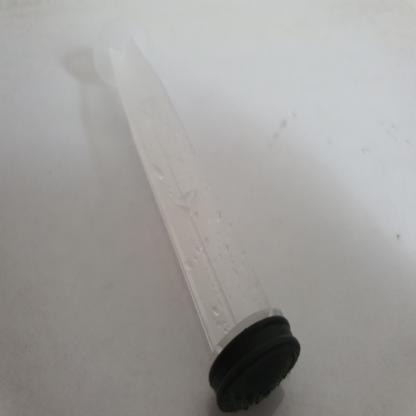wet: (82, 26, 296, 400)
